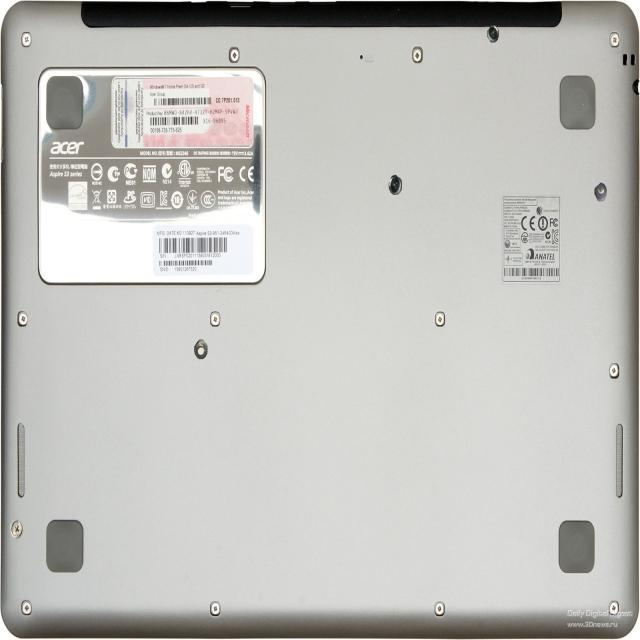lock: (388, 174, 402, 195), (9, 519, 23, 539), (487, 25, 499, 42)
missing_screw: (194, 339, 208, 359), (594, 182, 607, 201)
